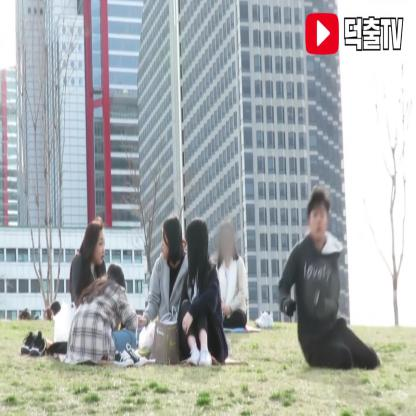Fall_Down: (277, 182, 384, 373)
